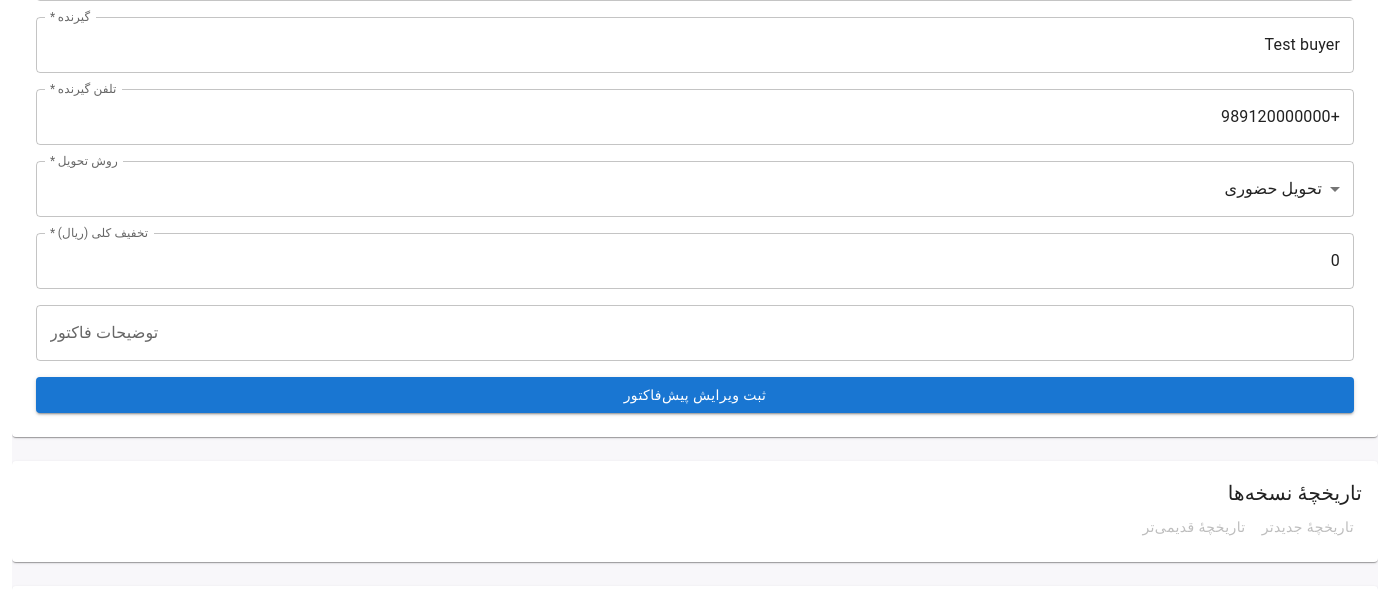
Scenario: Invoice draft workspace authoritative amounts and safe recovery › shows missing policy instead of invented tax and edits only versioned non-price input
(page scrolled)
Expected: the button "ثبت ویرایش پیش‌فاکتور" is enabled, [36, 377, 1354, 413]
Replace the text in the field labelled "تخفیف کلی (ریال) *" with "۱۰۰" at (695,261), box [36, 233, 1354, 289]
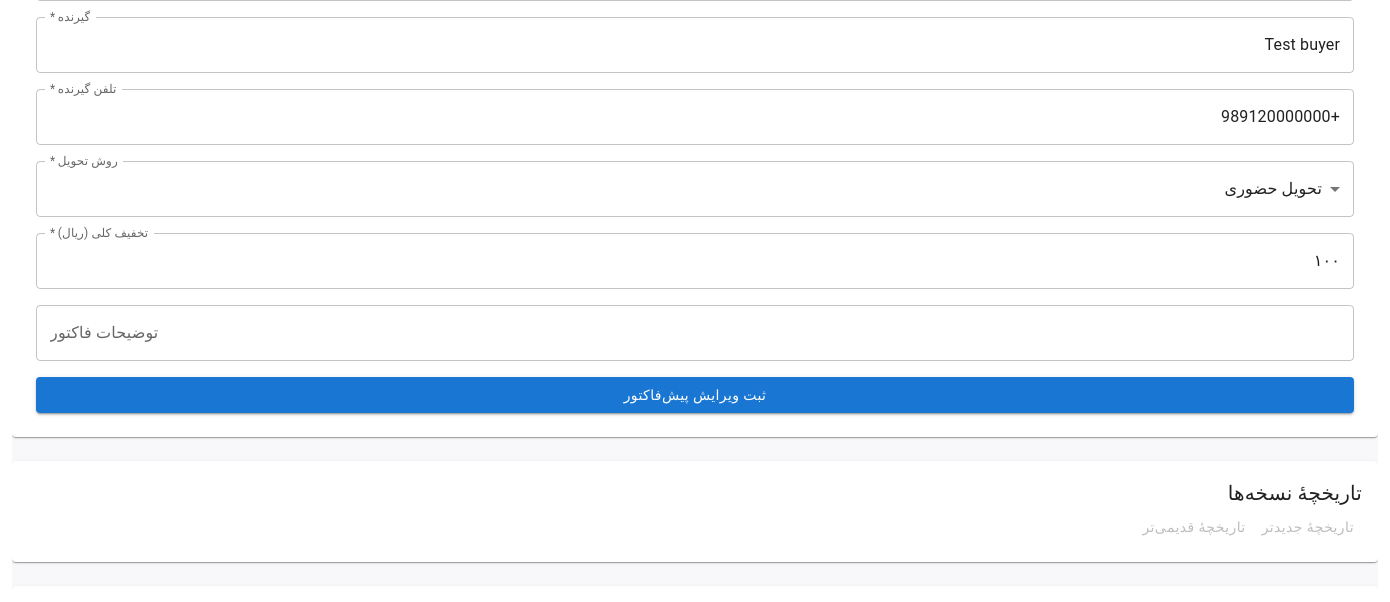
Click the button "ثبت ویرایش پیش‌فاکتور" at (695,395), box [36, 377, 1354, 413]
(page scrolled)
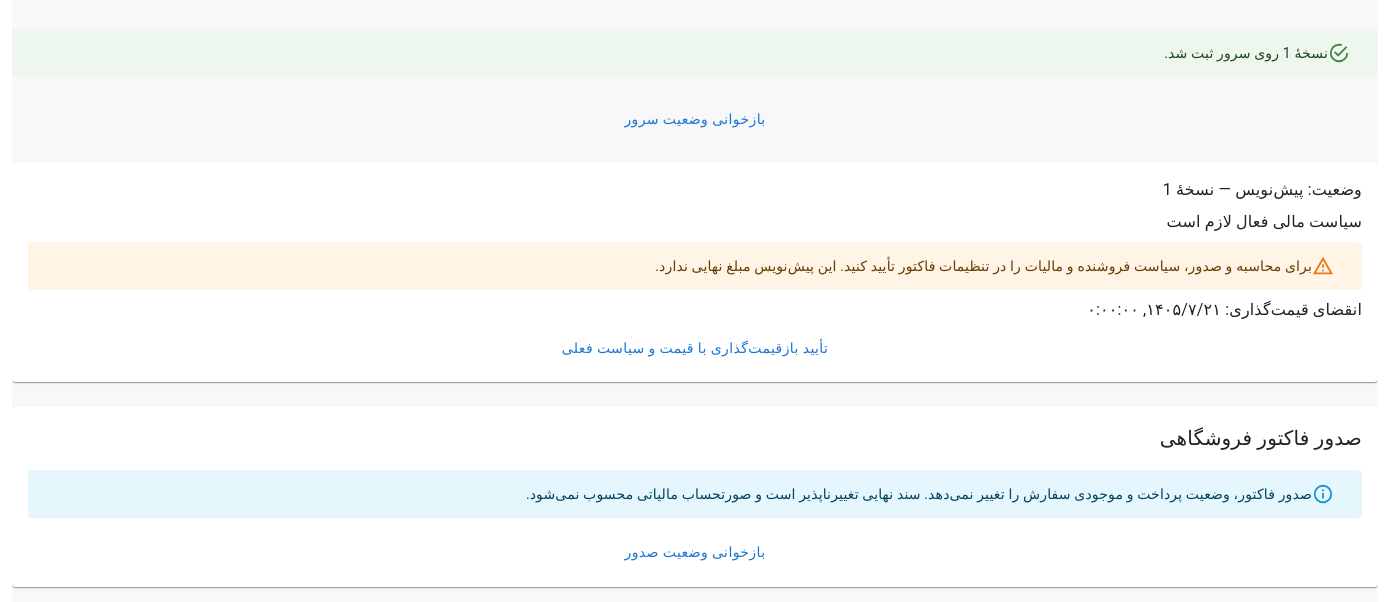
Expected: the text "نسخهٔ 1 روی سرور ثبت شد." is shown, [1164, 45, 1328, 61]
